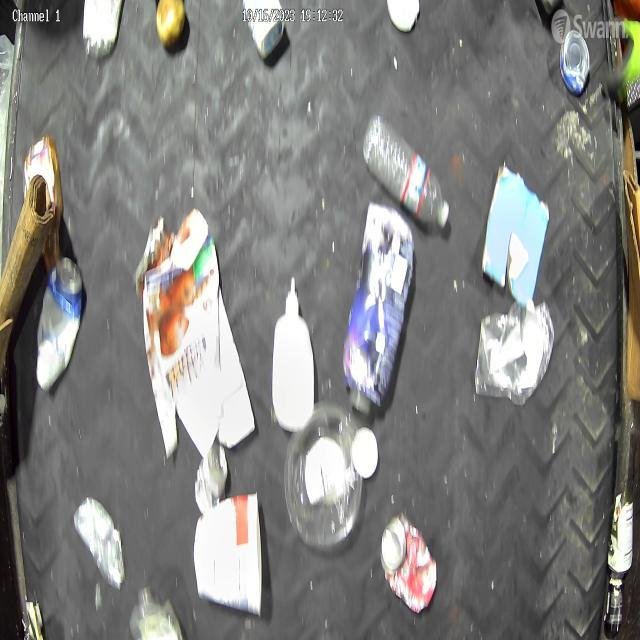can: (34, 253, 86, 399), (380, 511, 440, 618), (606, 488, 636, 572), (195, 442, 229, 515), (559, 29, 592, 97), (602, 574, 623, 636)
plastic_bottle: (362, 108, 452, 230)
